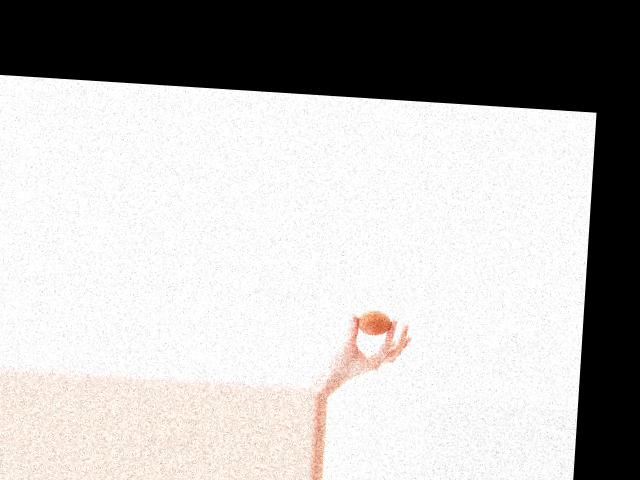egg: (356, 308, 392, 335)
